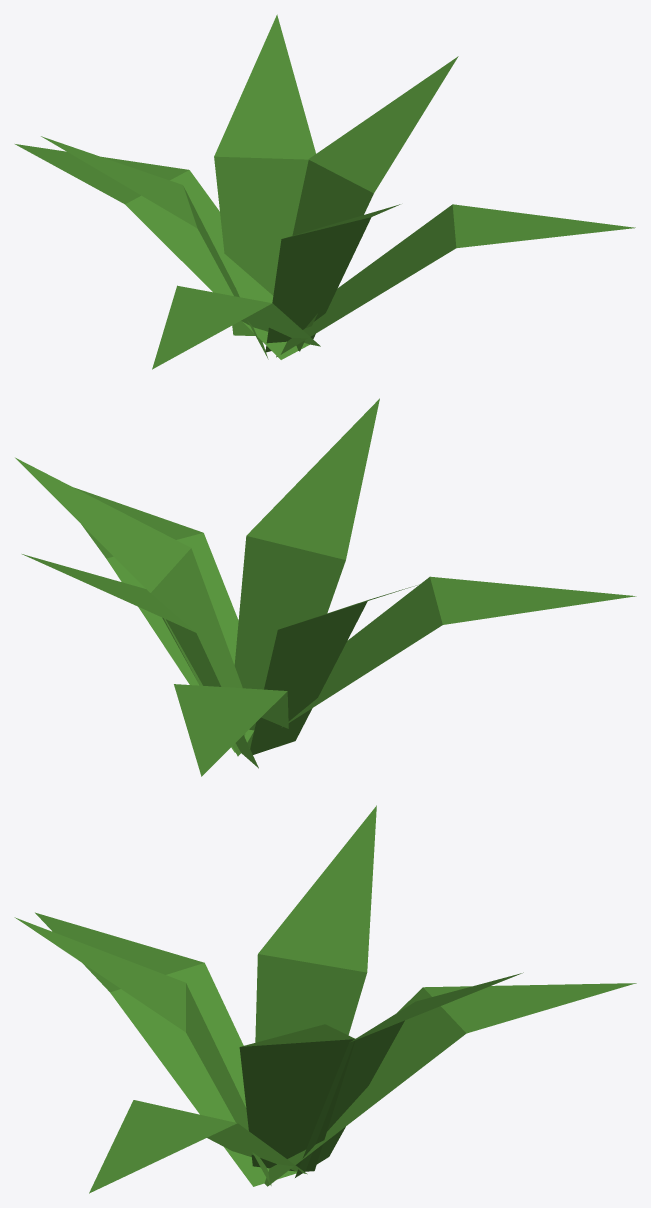
The model's file is grass-clumb.glb.
3 renders of one model, top to bottom at view 1: azimuth 30°, elevation 25°; view 2: azimuth 150°, elevation 25°; view 3: azimuth 270°, elevation 25°, orthographic. The views are drawn at different scales.
Parts seen in each view (by area): view 1: grass-clumb; view 2: grass-clumb; view 3: grass-clumb.
Boxes of the visible parts, left/top/right/bottom form: grass-clumb: left=15, top=14, right=635, bottom=369; grass-clumb: left=15, top=398, right=636, bottom=776; grass-clumb: left=14, top=805, right=636, bottom=1193.
Bounding box in the file's own units: 0.9002 × 0.3824 × 0.8423.
